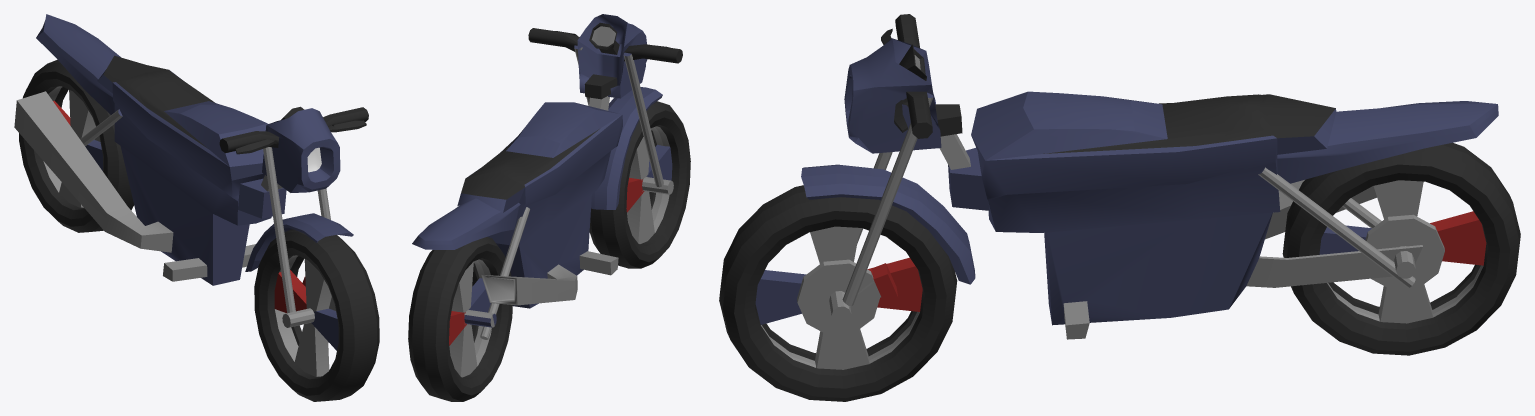
File: motor.fbx
3 views of the same model, side by side, from view 1: azimuth 30°, elevation 25°; view 2: azimuth 150°, elevation 25°; view 3: azimuth 270°, elevation 25° (orthographic). The views are drawn at different scales.
Visible parts, largest first — view 1: Moto_Body.001; view 2: Moto_Body.001; view 3: Moto_Body.001.
Part boxes in pixels (x1=…): Moto_Body.001: x1=14, y1=14, x2=379, y2=401; Moto_Body.001: x1=408, y1=14, x2=690, y2=401; Moto_Body.001: x1=719, y1=14, x2=1520, y2=401.
Size of the model in its own units: 7.93 by 12.08 by 24.34.
